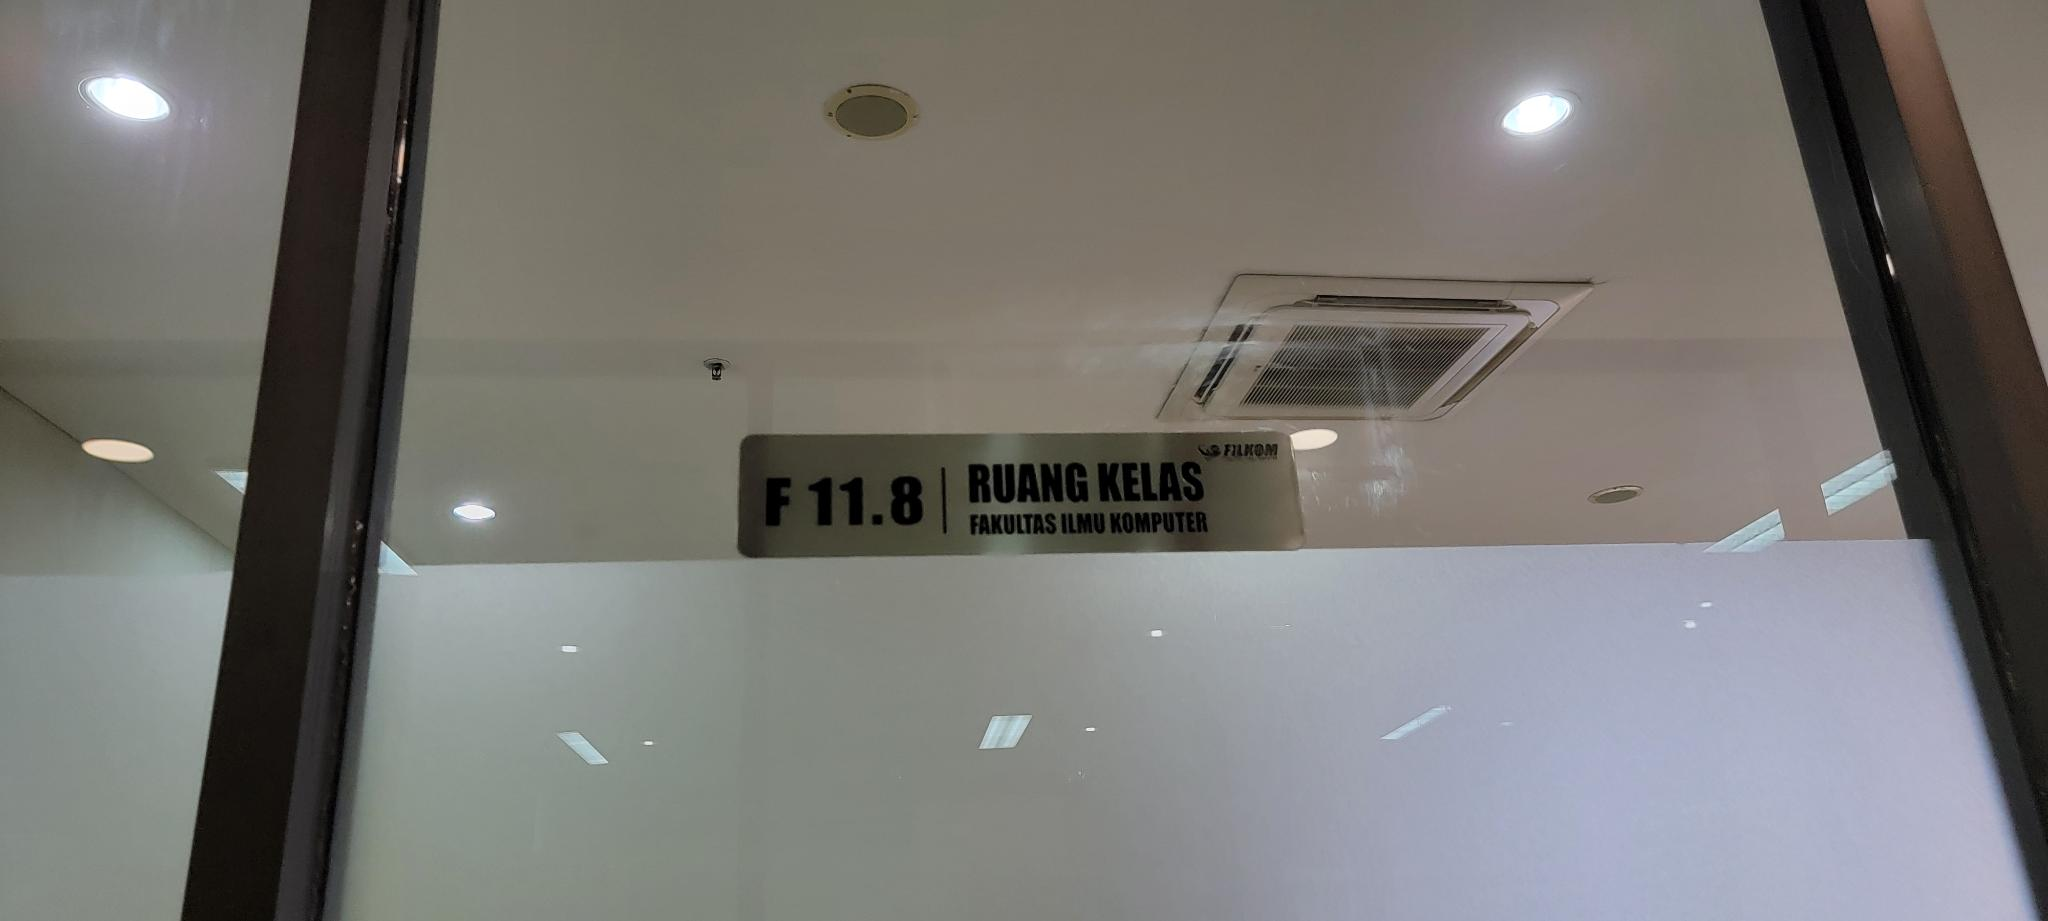plate: (737, 431, 1305, 559)
